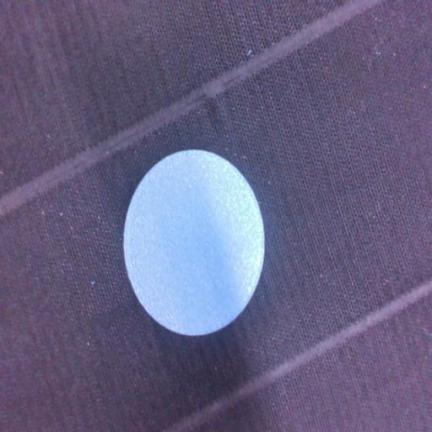cylinder: (123, 149, 264, 335)
